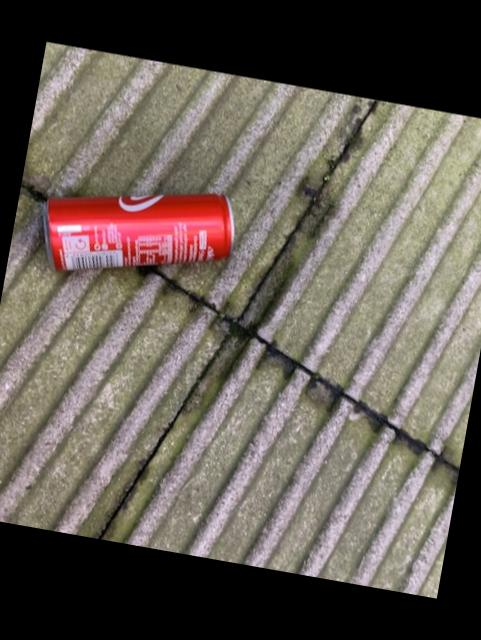metal: (42, 192, 231, 268)
